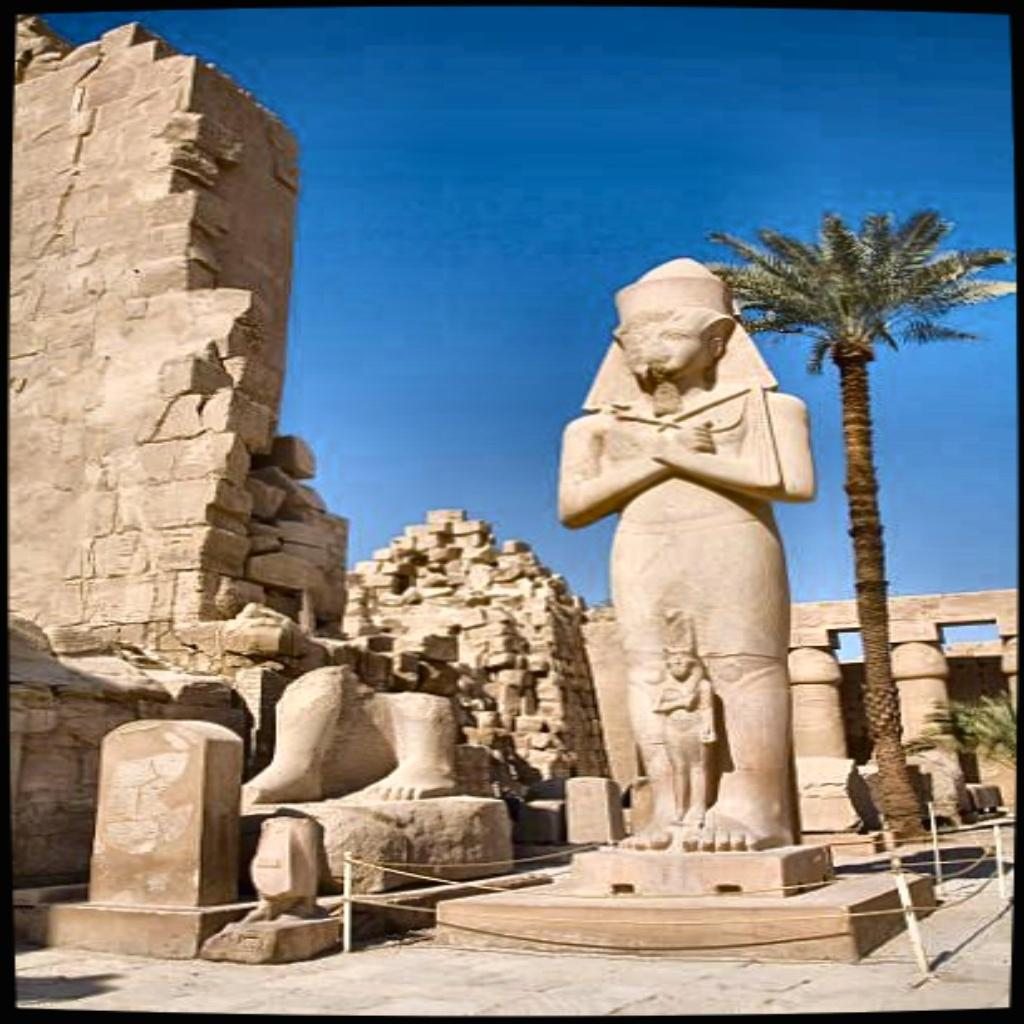Standing Statue of King Ramses II: (552, 254, 823, 855)
